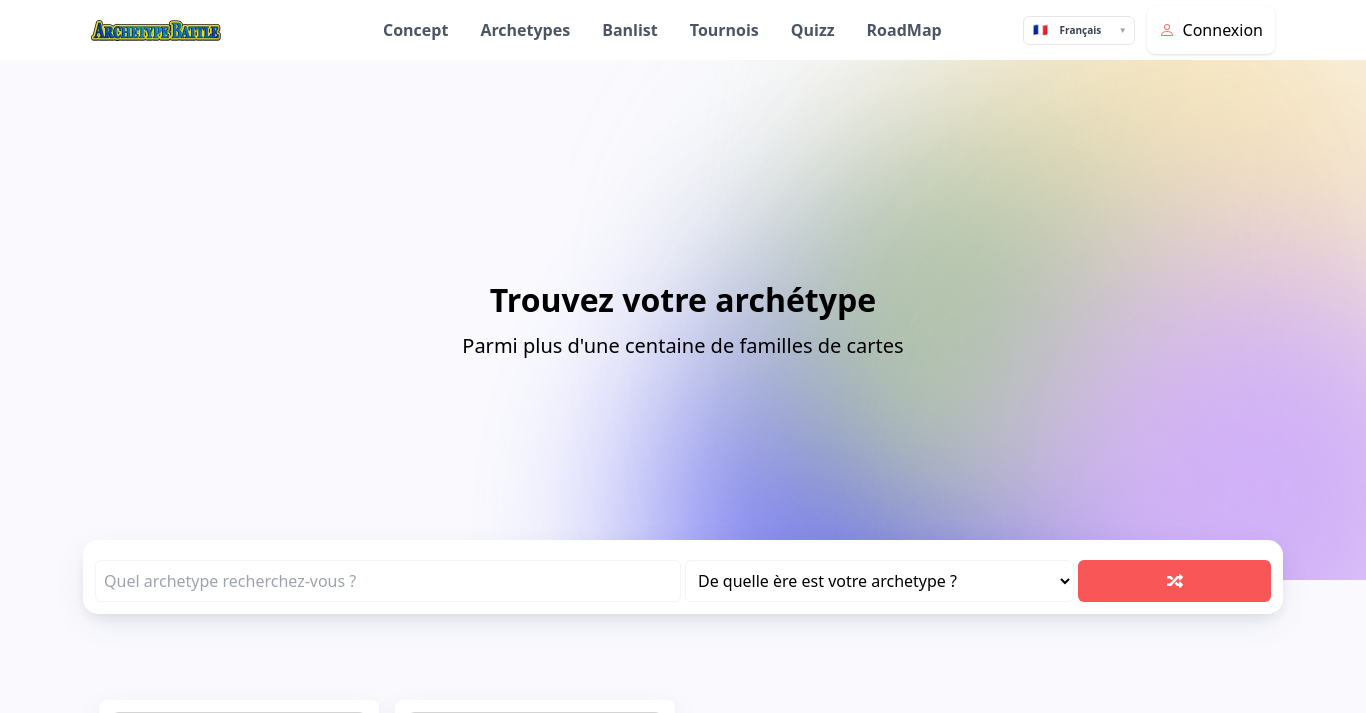
Test: ArchetypesPage (integration) › random button › is disabled when a name is entered
In the field with placeholder "Quel archetype recherchez-vous ?": (388, 581) [95,560,681,602], type "D"
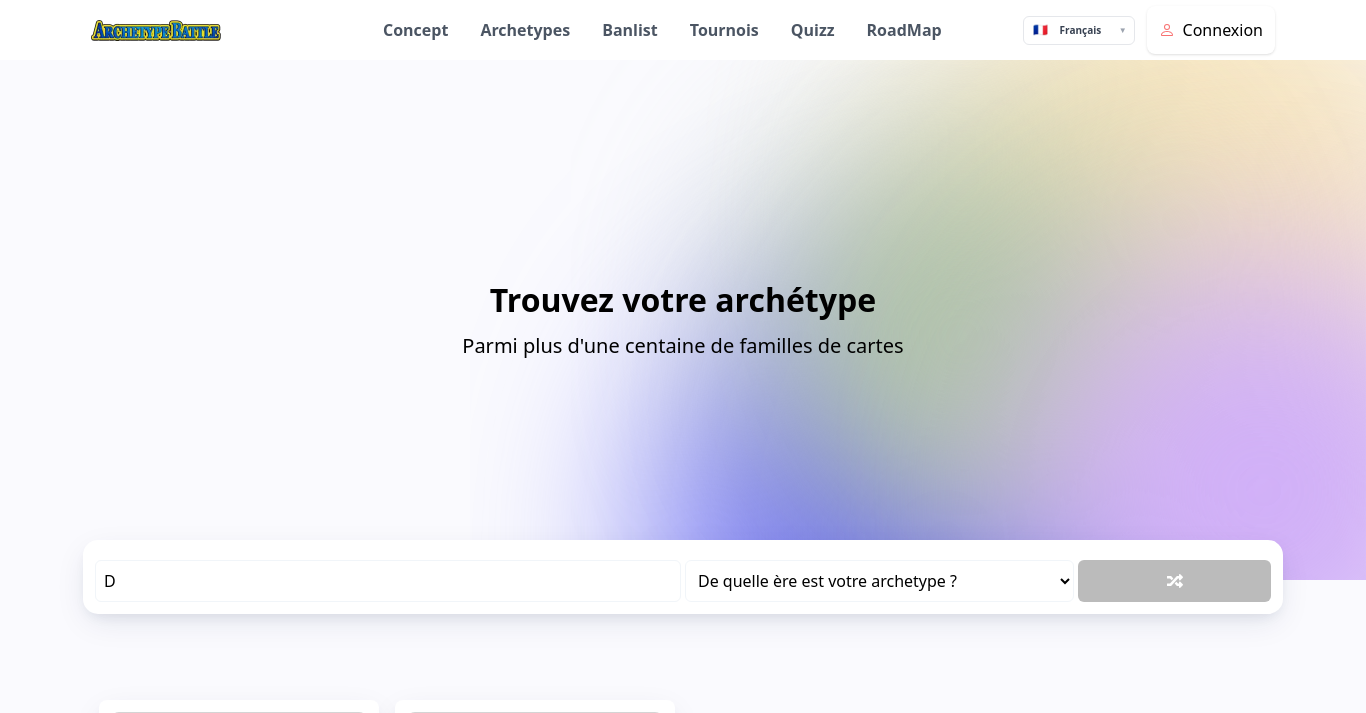
Expected: the button named "Archétype aléatoire" is disabled, [1078,560,1271,602]
